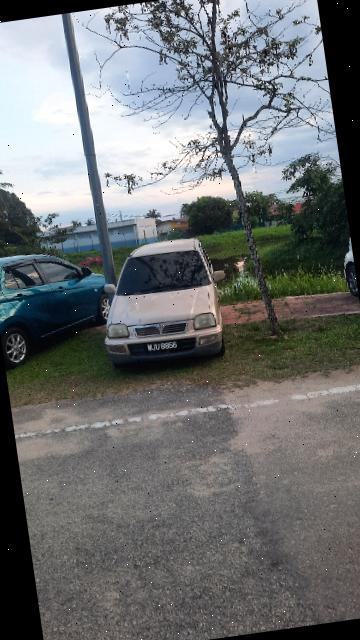License_Plate: (141, 336, 188, 356)
car: (88, 227, 240, 378)
